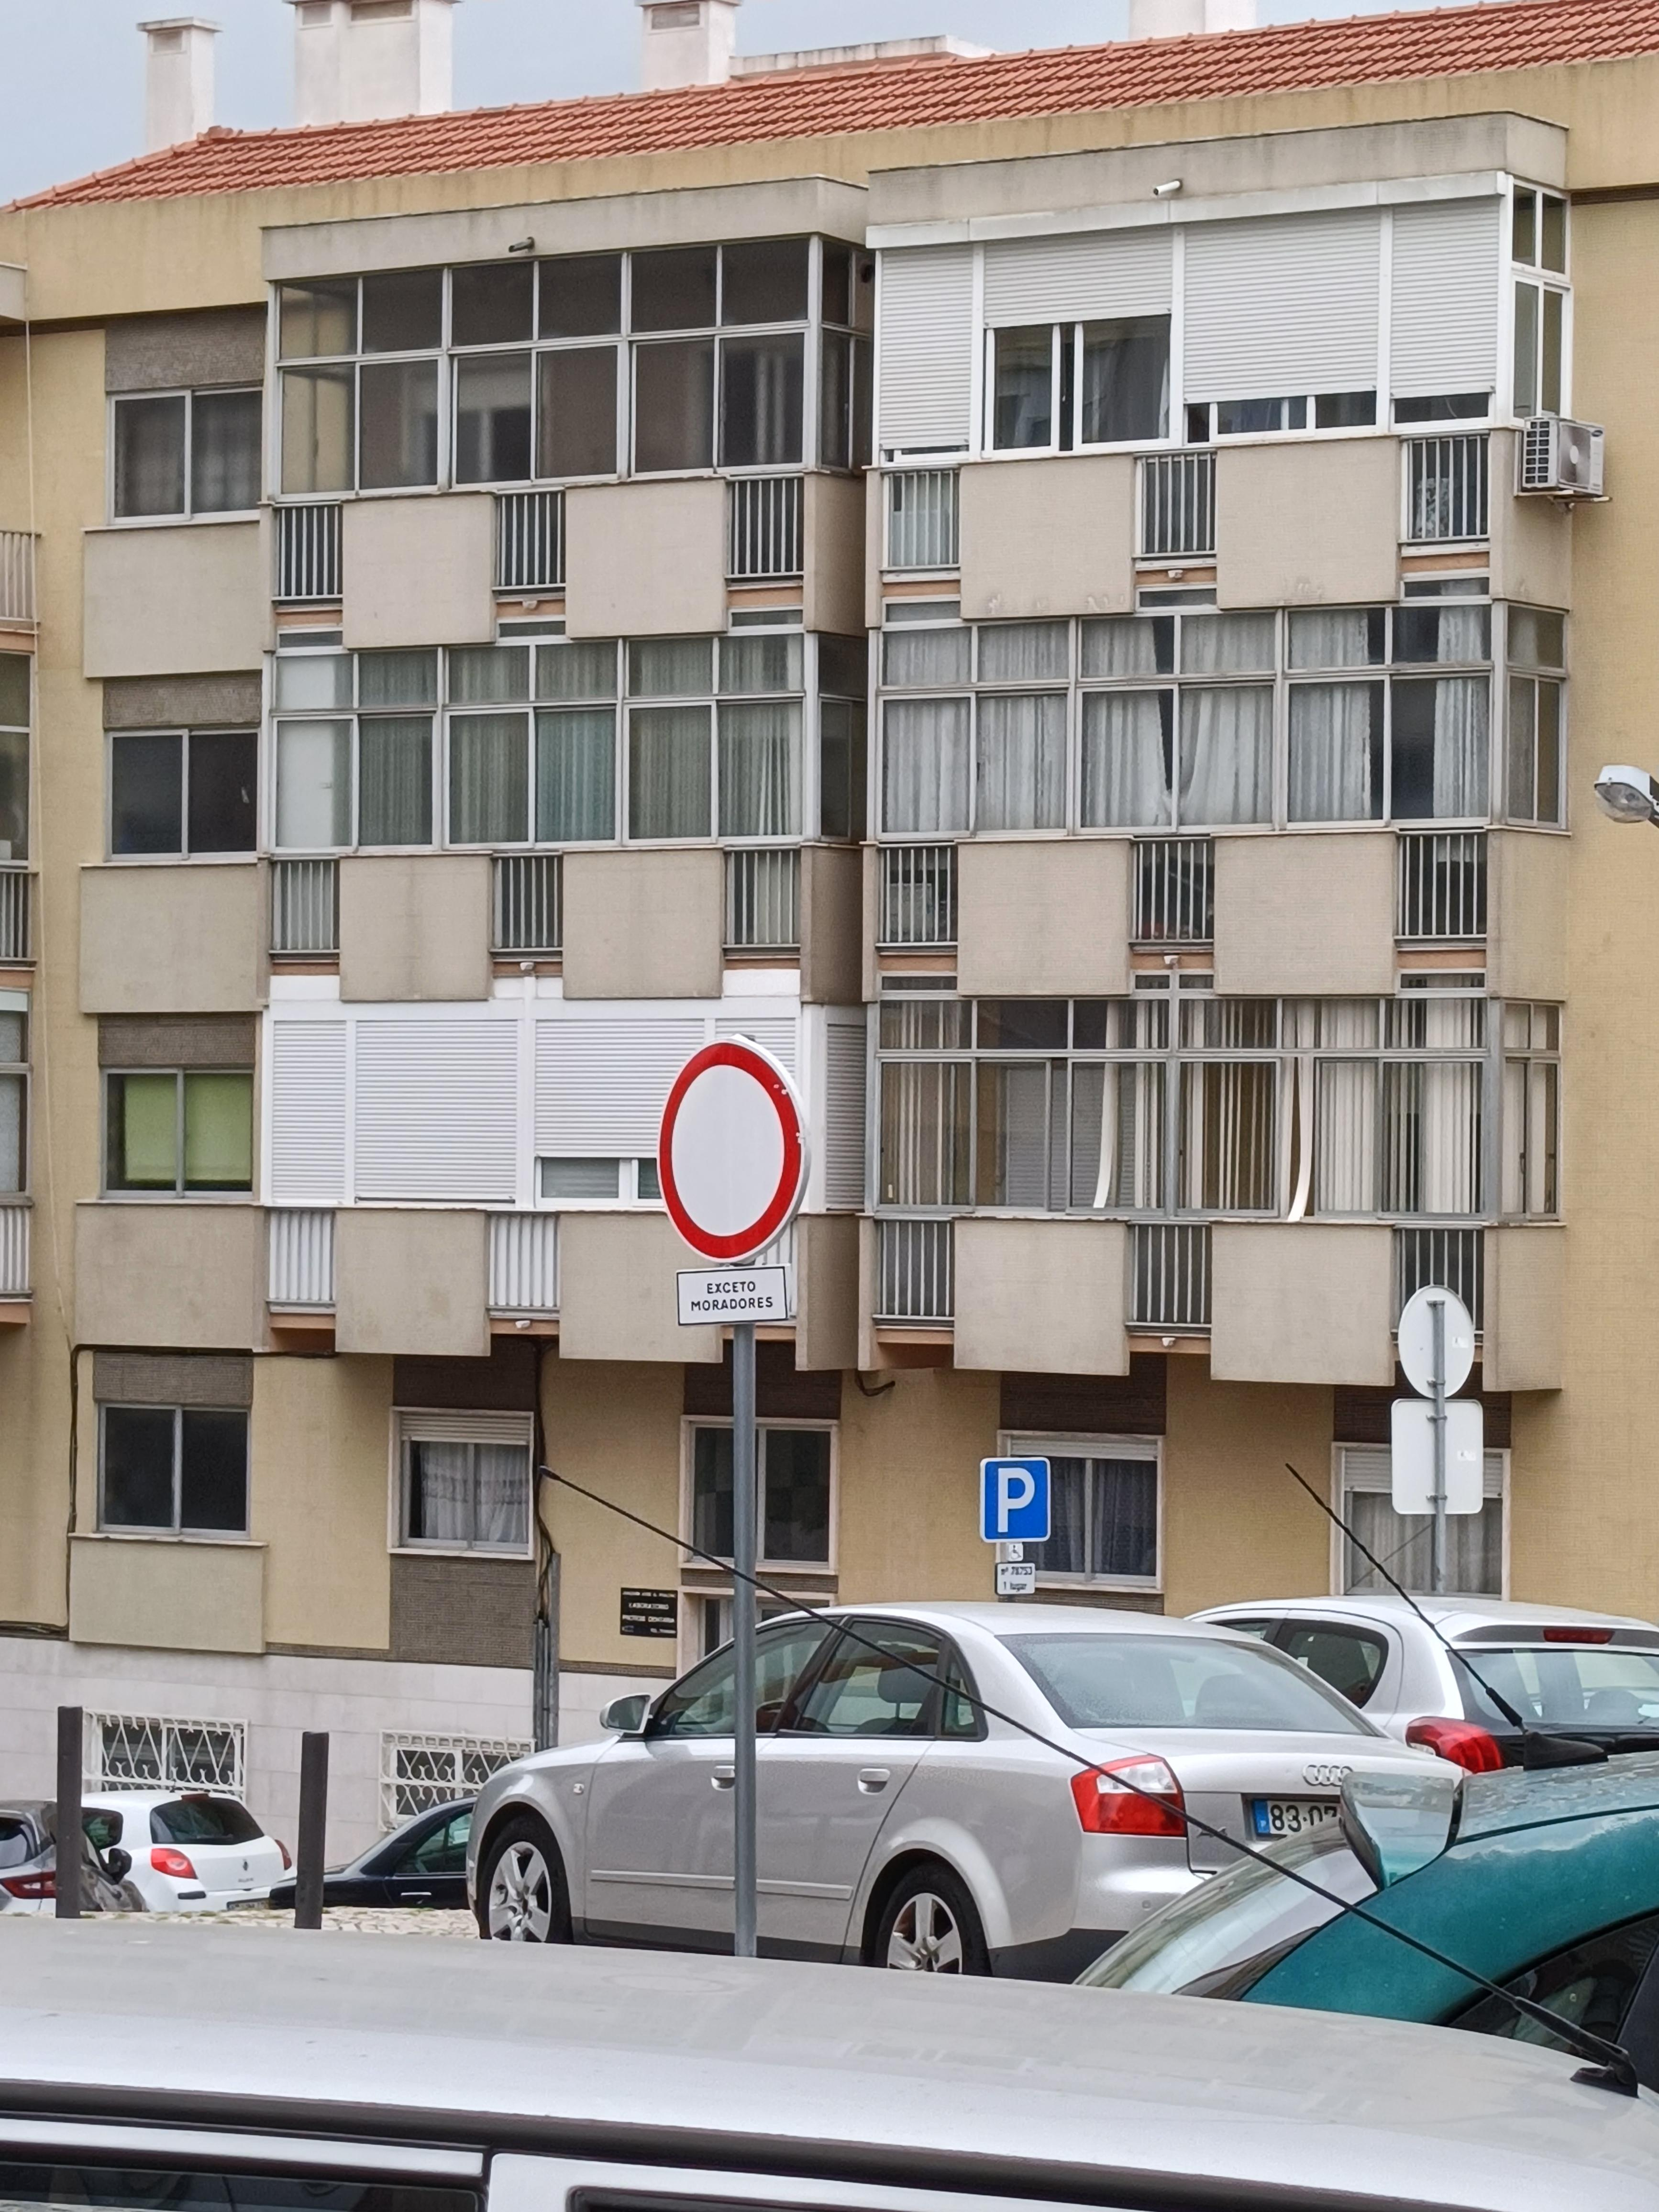transito proibido: (653, 1035, 812, 1282)
